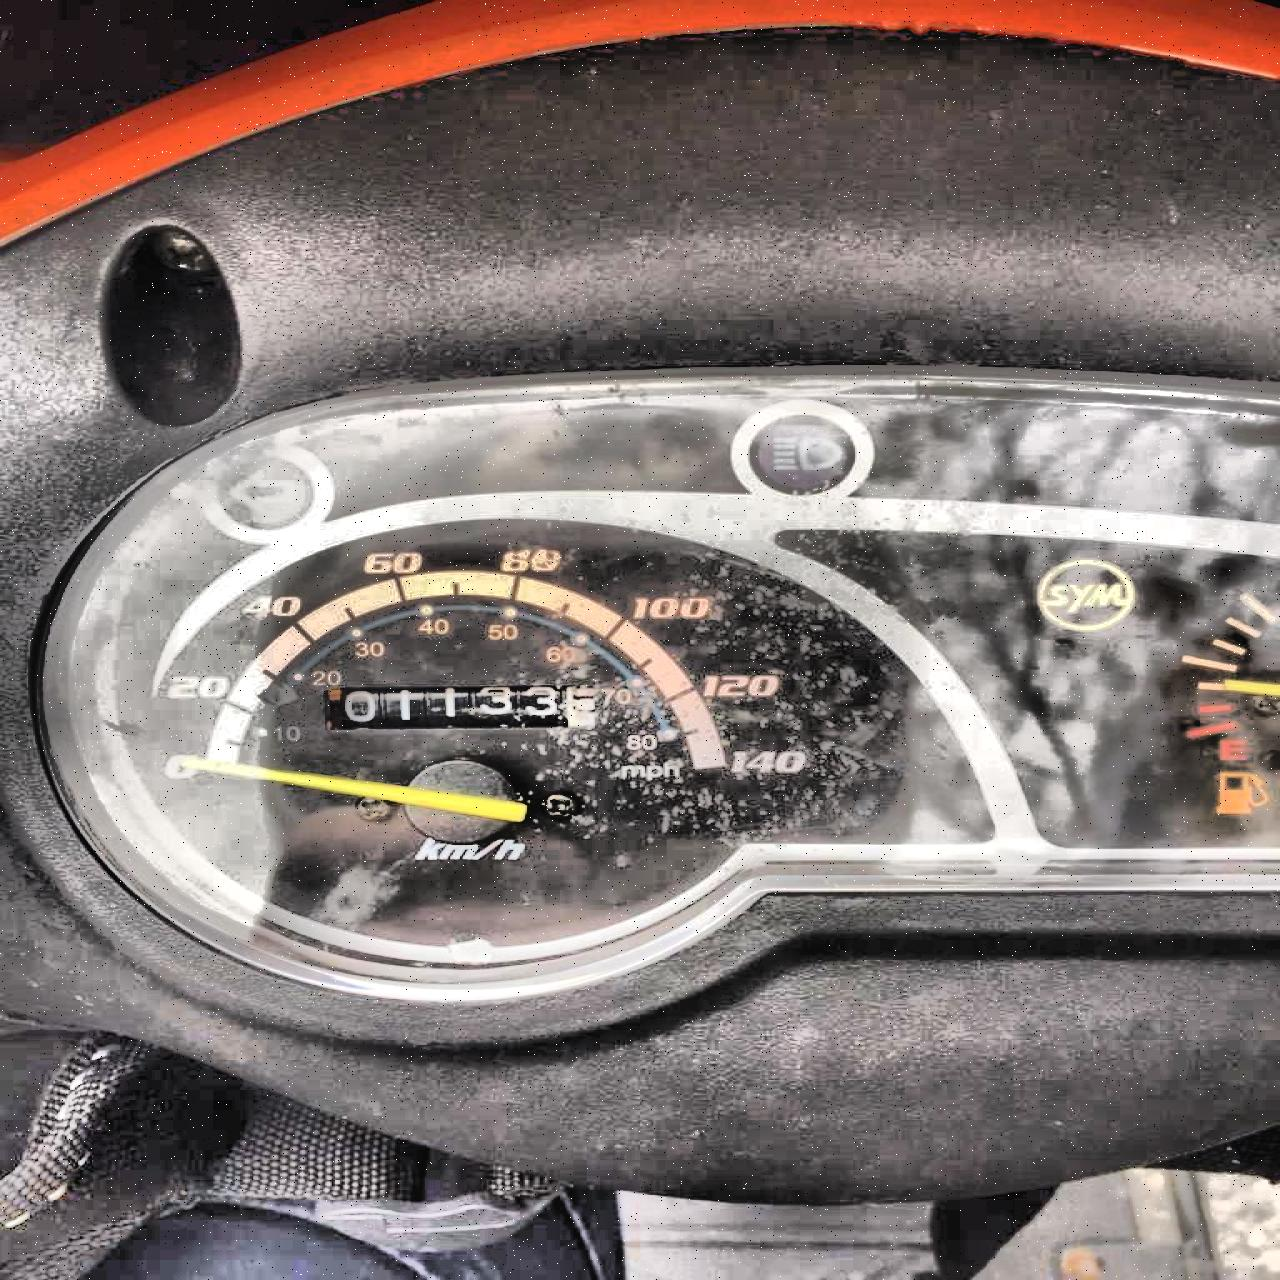0: (340, 688, 375, 722)
1: (437, 685, 458, 721), (393, 686, 415, 720)
3: (477, 682, 513, 716), (520, 683, 557, 717)
5: (568, 683, 597, 717)
odometer: (313, 681, 599, 734)
